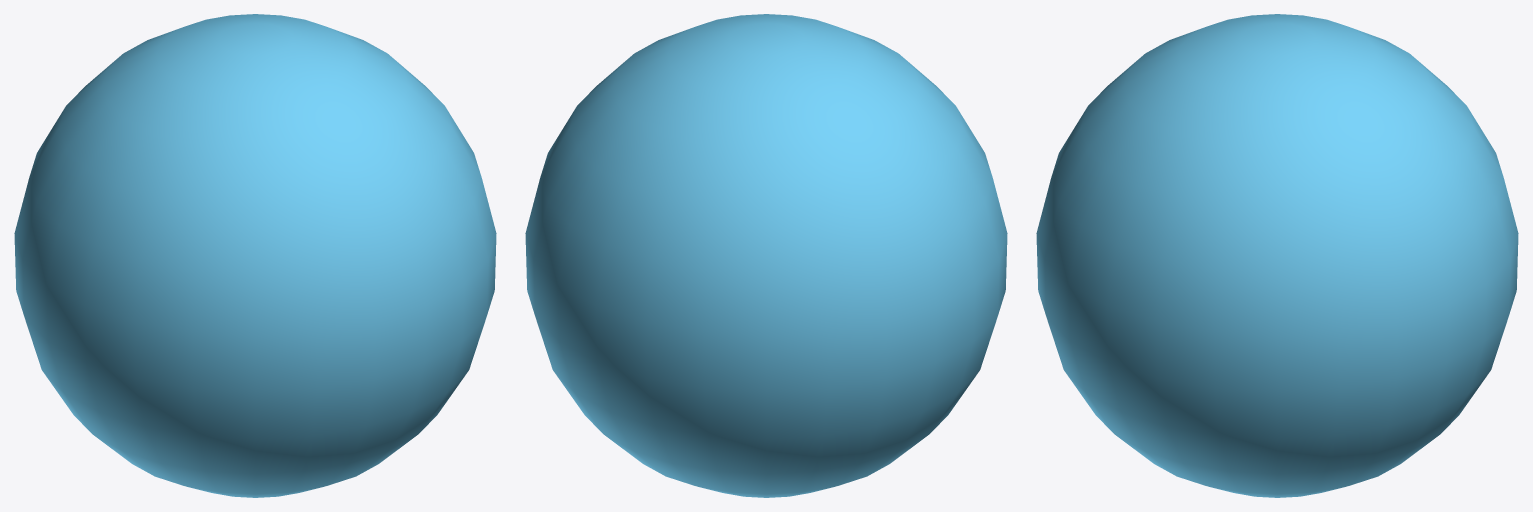
Rendered from ball_blue.glb.
3 views of the same model, side by side, from view 1: azimuth 30°, elevation 25°; view 2: azimuth 150°, elevation 25°; view 3: azimuth 270°, elevation 25° (orthographic).
Parts seen in each view (by area): view 1: ball_blue; view 2: ball_blue; view 3: ball_blue.
Boxes of the visible parts, box(x1,y1,x2,y2) form: ball_blue: box(14, 14, 496, 497); ball_blue: box(525, 14, 1007, 497); ball_blue: box(1036, 14, 1518, 497).
Bounding box in the file's own units: 0.0699 × 0.0698 × 0.0699.
